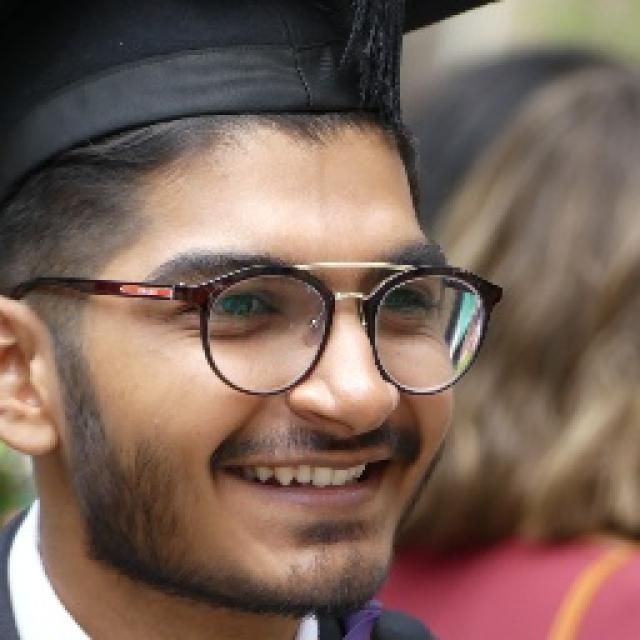earlobe: (10, 404, 61, 456)
eye: (374, 283, 435, 322), (198, 290, 266, 322)
nose: (296, 413, 394, 454)
wholeear: (0, 296, 61, 456)
